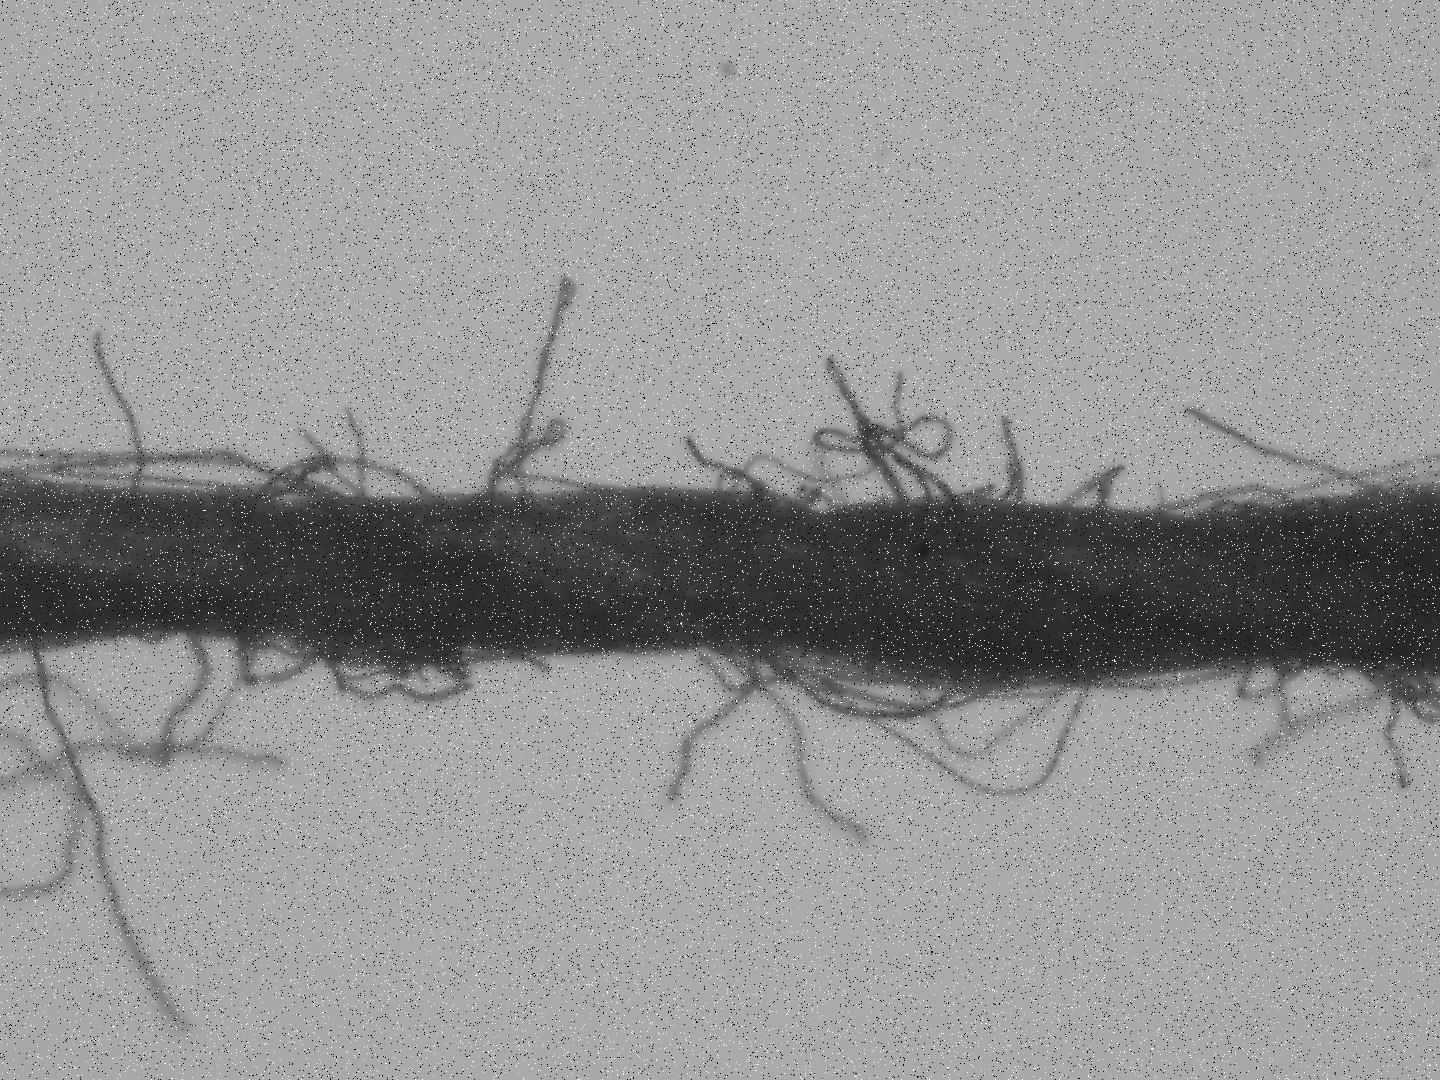loop_fiber: (740, 636, 1095, 801), (0, 447, 354, 505), (897, 669, 1076, 762), (242, 455, 446, 504), (225, 633, 327, 693)
protruding_fiber: (18, 648, 195, 1040), (712, 651, 871, 846), (1180, 400, 1384, 495), (661, 656, 759, 807), (82, 323, 153, 498), (678, 425, 785, 504), (1371, 666, 1418, 798), (1000, 413, 1028, 508)
